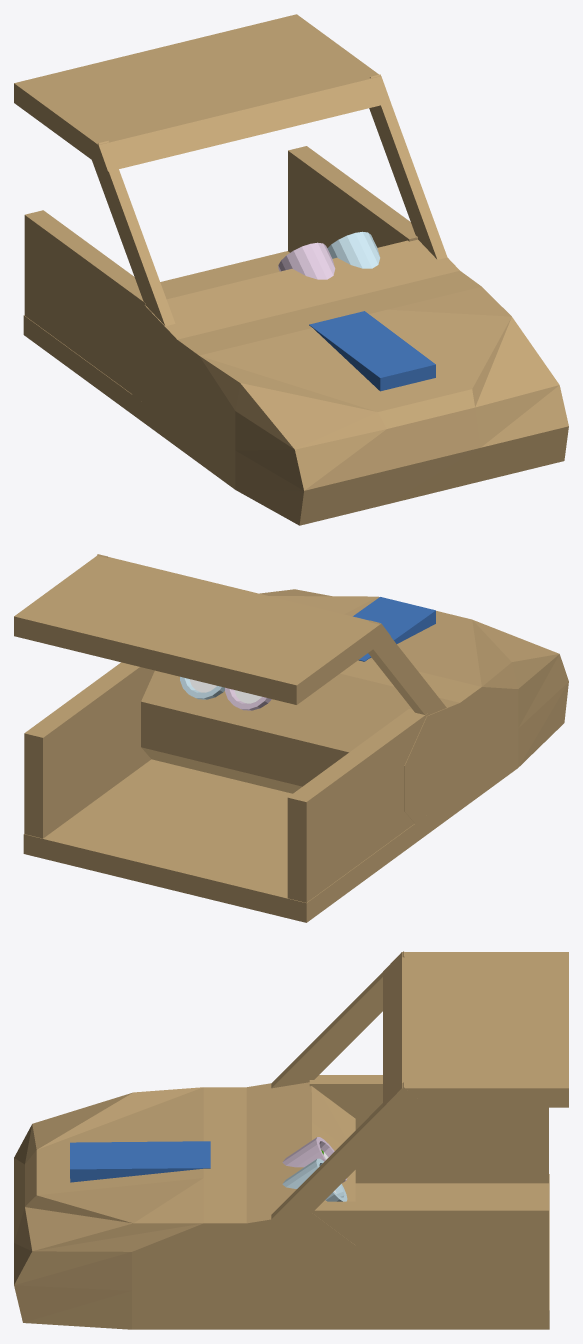
Rendered from sam.dae.
3 views of the same model, one above another, from view 1: azimuth 30°, elevation 25°; view 2: azimuth 150°, elevation 25°; view 3: azimuth 270°, elevation 25° (orthographic).
Visible parts, largest first — view 1: maska_Material__50sam, dach_Material__50sam, drzwiLewe_Material__5, drzwiPrawe_Material__, akcent_Material__61sam, pod_oga_Material__50sam, wspornikle_Material__, wspornikpr_Material__, czas_Material__49sam, zegar_Material__38sam; view 2: maska_Material__50sam, dach_Material__50sam, pod_oga_Material__50sam, drzwiLewe_Material__5, drzwiPrawe_Material__, wspornikle_Material__, akcent_Material__61sam; view 3: maska_Material__50sam, dach_Material__50sam, drzwiPrawe_Material__, drzwiLewe_Material__5, pod_oga_Material__50sam, wspornikpr_Material__, akcent_Material__61sam, wspornikle_Material__, czas_Material__49sam, zegar_Material__38sam.
Boxes of the visible parts, x1,y1,x2,y2 form: maska_Material__50sam: (122,239,568,525); dach_Material__50sam: (14,14,390,171); drzwiLewe_Material__5: (24,210,145,393); drzwiPrawe_Material__: (288,146,417,252); akcent_Material__61sam: (309,311,435,391); pod_oga_Material__50sam: (23,251,289,422); wspornikle_Material__: (92,140,175,325); wspornikpr_Material__: (369,74,447,259); czas_Material__49sam: (278,242,335,279); zegar_Material__38sam: (327,231,380,268); maska_Material__50sam: (141,589,568,834); dach_Material__50sam: (14,555,390,704); pod_oga_Material__50sam: (23,759,426,922); drzwiLewe_Material__5: (287,709,427,902); drzwiPrawe_Material__: (24,662,154,838); wspornikle_Material__: (368,620,446,715); akcent_Material__61sam: (353,597,435,661); maska_Material__50sam: (14,1082,355,1329); dach_Material__50sam: (383,952,568,1107); drzwiPrawe_Material__: (312,1201,548,1310); drzwiLewe_Material__5: (309,1075,548,1183); pod_oga_Material__50sam: (315,1174,549,1329); wspornikpr_Material__: (254,1082,422,1251); akcent_Material__61sam: (70,1141,210,1182); wspornikle_Material__: (271,951,404,1088); czas_Material__49sam: (282,1137,347,1182); zegar_Material__38sam: (282,1158,347,1201).
Bounding box in the file's own units: 2.95 × 5.08 × 2.45.
6 materials, 2 textured.
